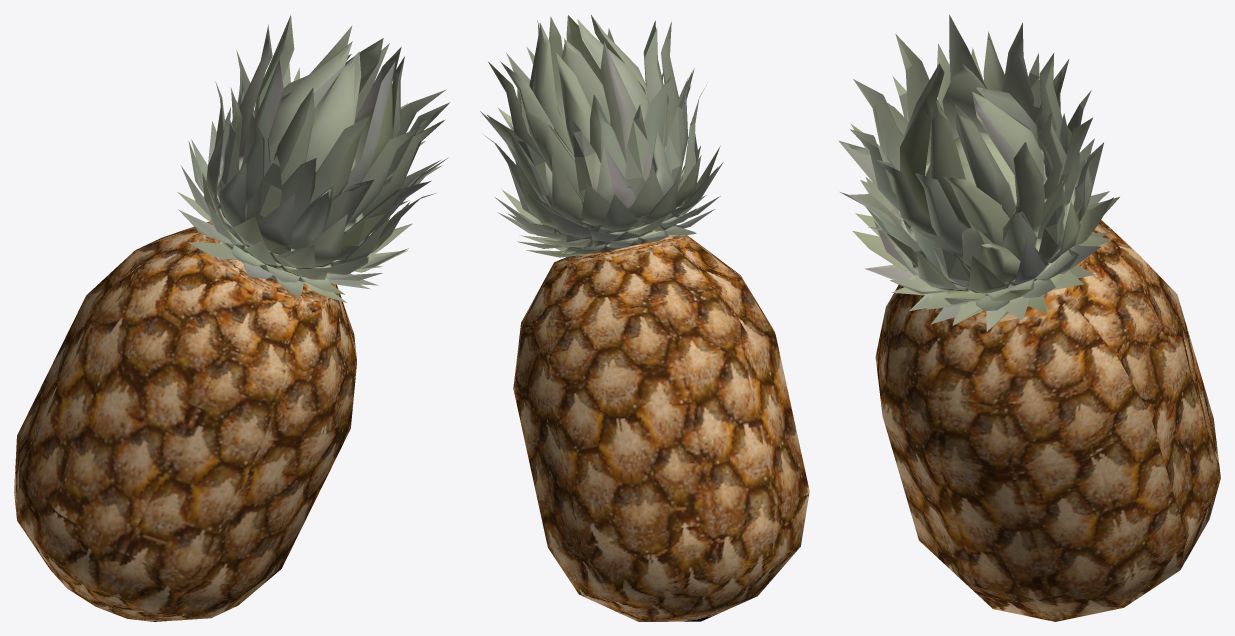
The model's file is pina_1.fbx.
3 views of the same model, side by side, from view 1: azimuth 30°, elevation 25°; view 2: azimuth 150°, elevation 25°; view 3: azimuth 270°, elevation 25° (orthographic). The views are drawn at different scales.
Visible parts, largest first — view 1: pinia; view 2: pinia; view 3: pinia.
Part boxes in pixels (x1,y1,x2,y2): pinia: (14,15,449,621); pinia: (480,15,809,621); pinia: (838,14,1220,621).
Bounding box in the file's own units: 0.3334 × 0.5133 × 0.2844.
Materials: 1 (1 with a texture image).
